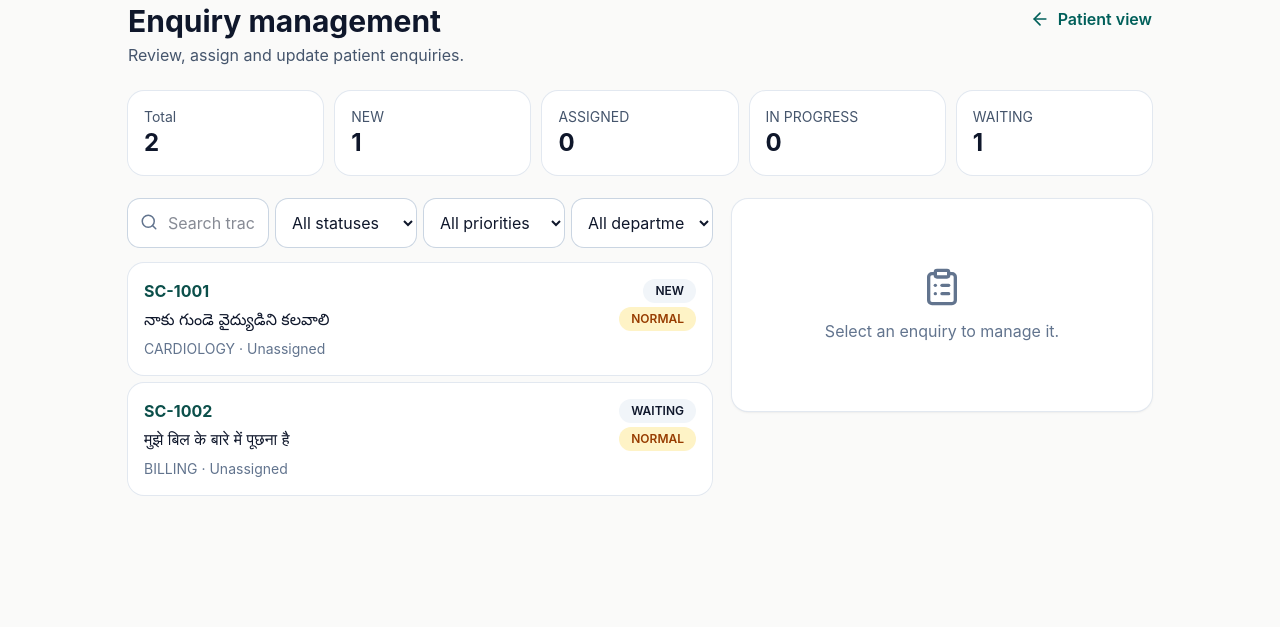
staff enquiry dashboard › updates priority from enquiry details and records activity
Click the text "SC-1001".
click(177, 291)  # box [144,281,209,301]
(page scrolled)
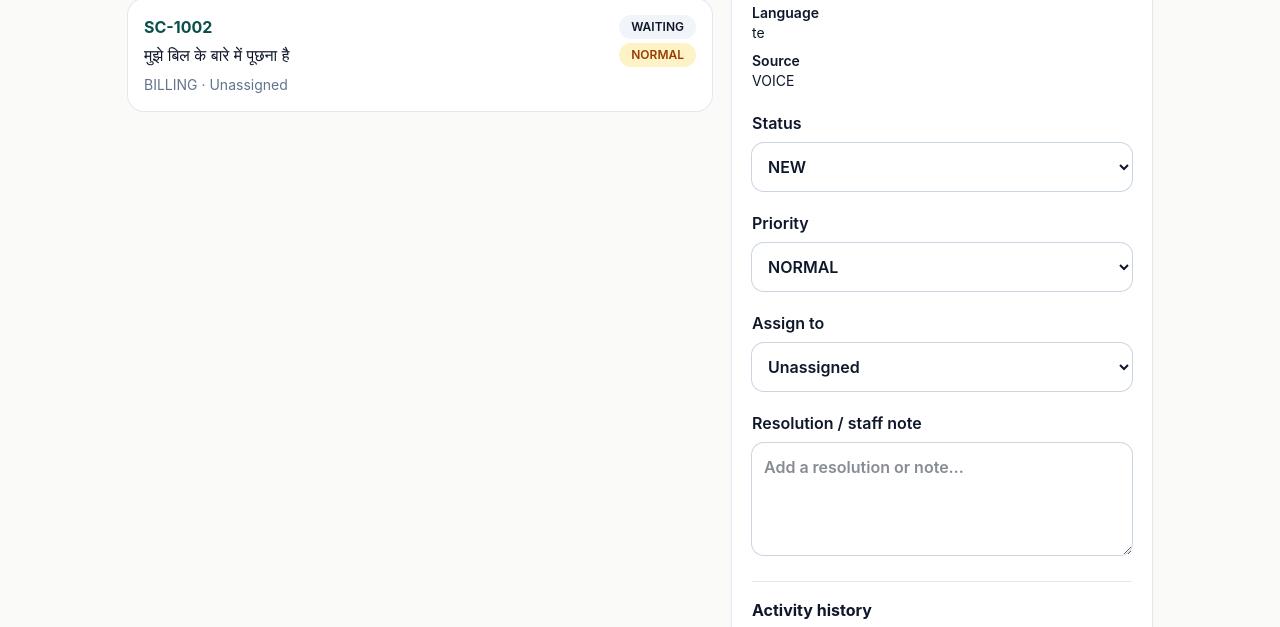
Expected: the dropdown labelled "Priority" shows "NORMAL"
Select "HIGH" in the dropdown labelled "Priority" at (942, 267), box [752,243,1132,291]
(page scrolled)
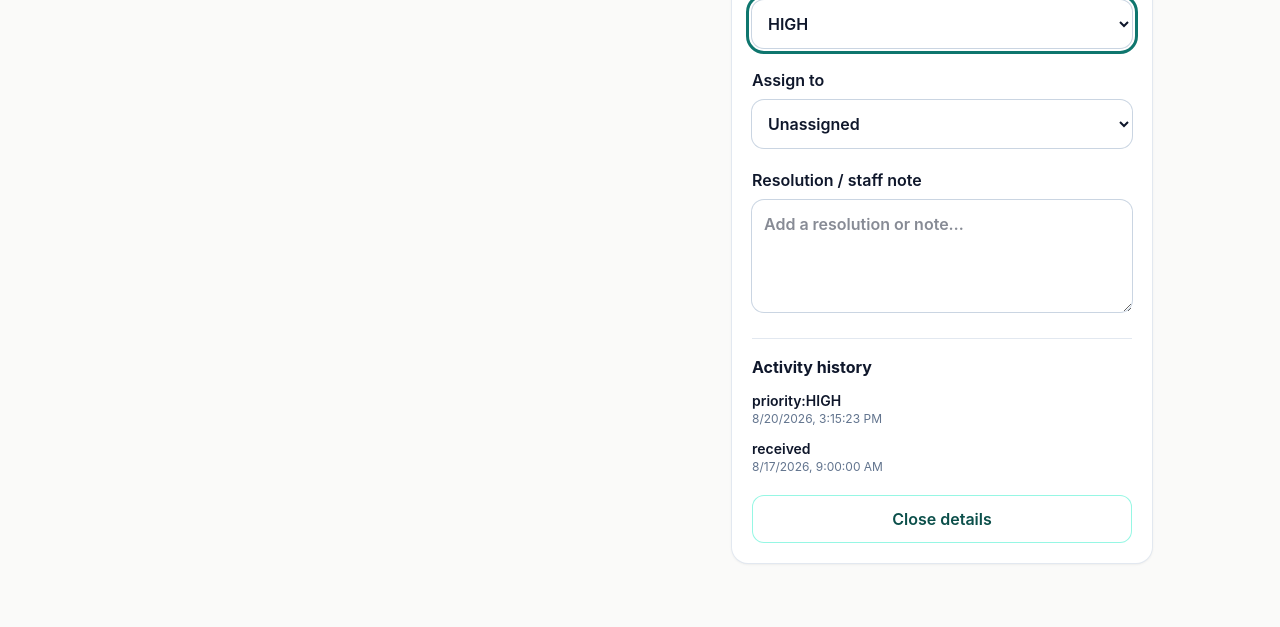
Expected: the text "priority:HIGH" is shown, [752,392,841,409]
